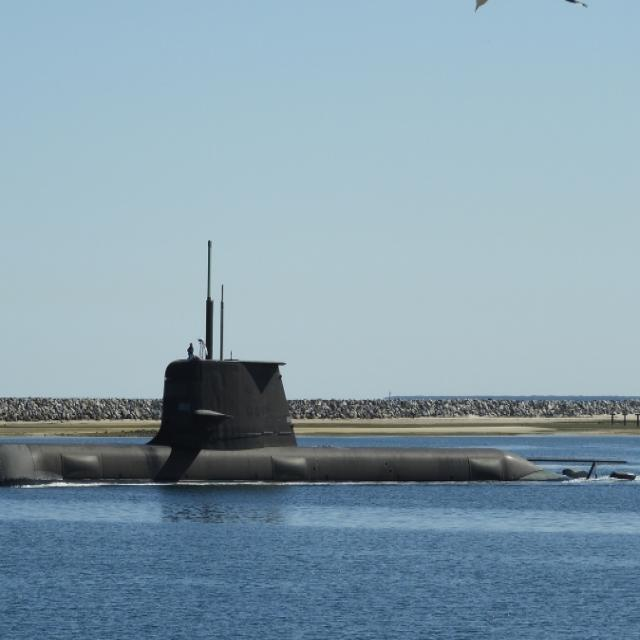submarine: (1, 236, 638, 485)
